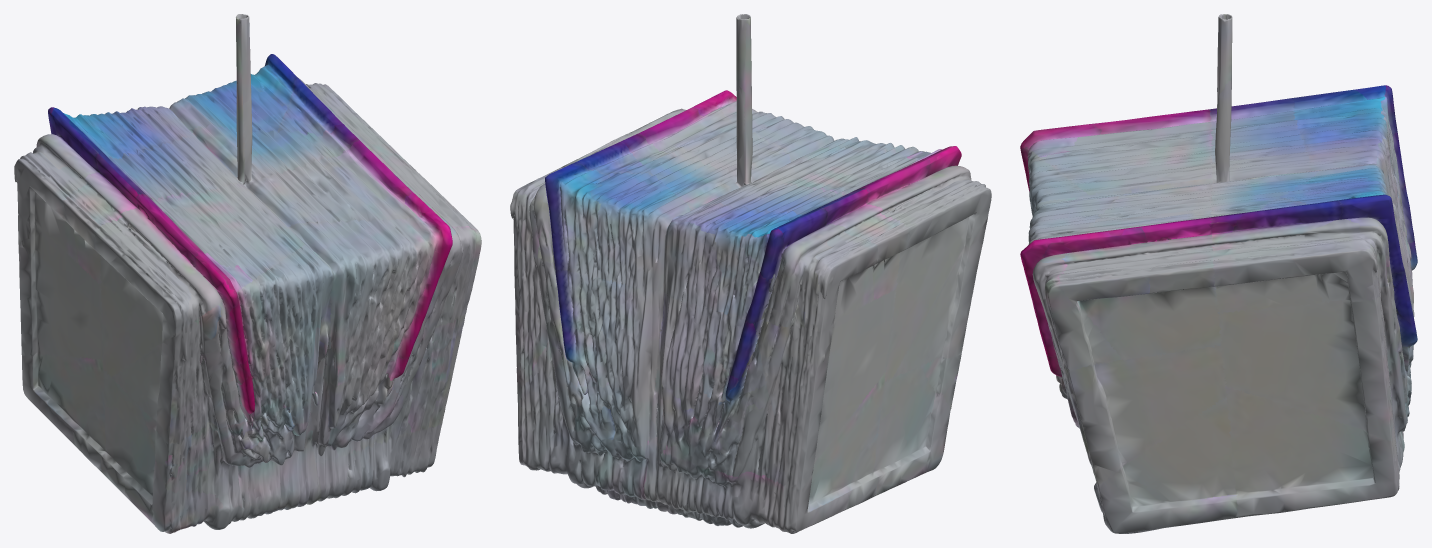
The model's file is ceiling_panel_light.glb.
3 views of the same model, side by side, from view 1: azimuth 30°, elevation 25°; view 2: azimuth 150°, elevation 25°; view 3: azimuth 270°, elevation 25° (orthographic). The views are drawn at different scales.
Visible parts, largest first — view 1: tripo_node_ea64f5d7-e75d-423f-9d78-4d74ada98ce0; view 2: tripo_node_ea64f5d7-e75d-423f-9d78-4d74ada98ce0; view 3: tripo_node_ea64f5d7-e75d-423f-9d78-4d74ada98ce0.
Boxes of the visible parts, x1,y1,x2,y2 form: tripo_node_ea64f5d7-e75d-423f-9d78-4d74ada98ce0: [14, 14, 481, 533]; tripo_node_ea64f5d7-e75d-423f-9d78-4d74ada98ce0: [510, 14, 991, 533]; tripo_node_ea64f5d7-e75d-423f-9d78-4d74ada98ce0: [1020, 14, 1417, 533].
Size of the model in its own units: 0.7122 by 0.9999 by 0.7825.
1 material, 1 textured.
